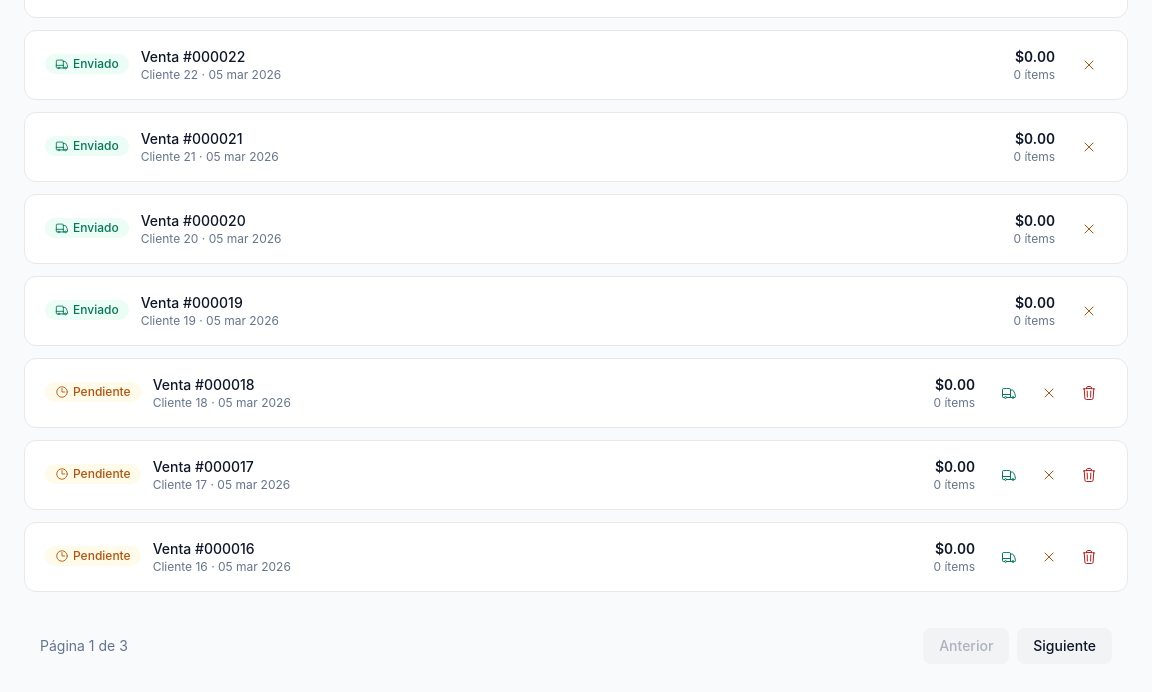
Test: SaleOrdersPage — paginación y filtros (T6-01) › número de venta (T6-04) › buscar 12 encuentra la #000012 y vuelve a la página 1; se pide solo con las cifras
(page scrolled)
Click the button "Siguiente".
click(1065, 646)  # box [1017,628,1112,664]
(page scrolled)
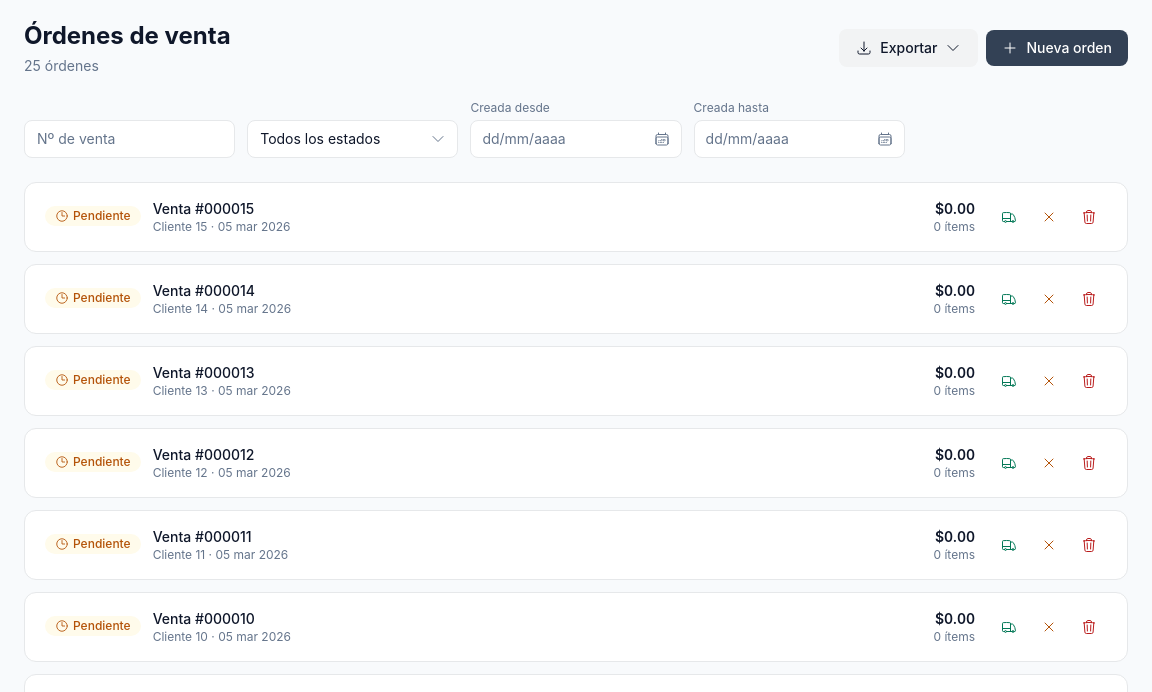
# Pegado como se lee en pantalla, con la almohadilla y los ceros.
Type "#000012" into the field labelled "Nº de venta".
click(130, 139); type("#000012")  # box [24,120,235,158]
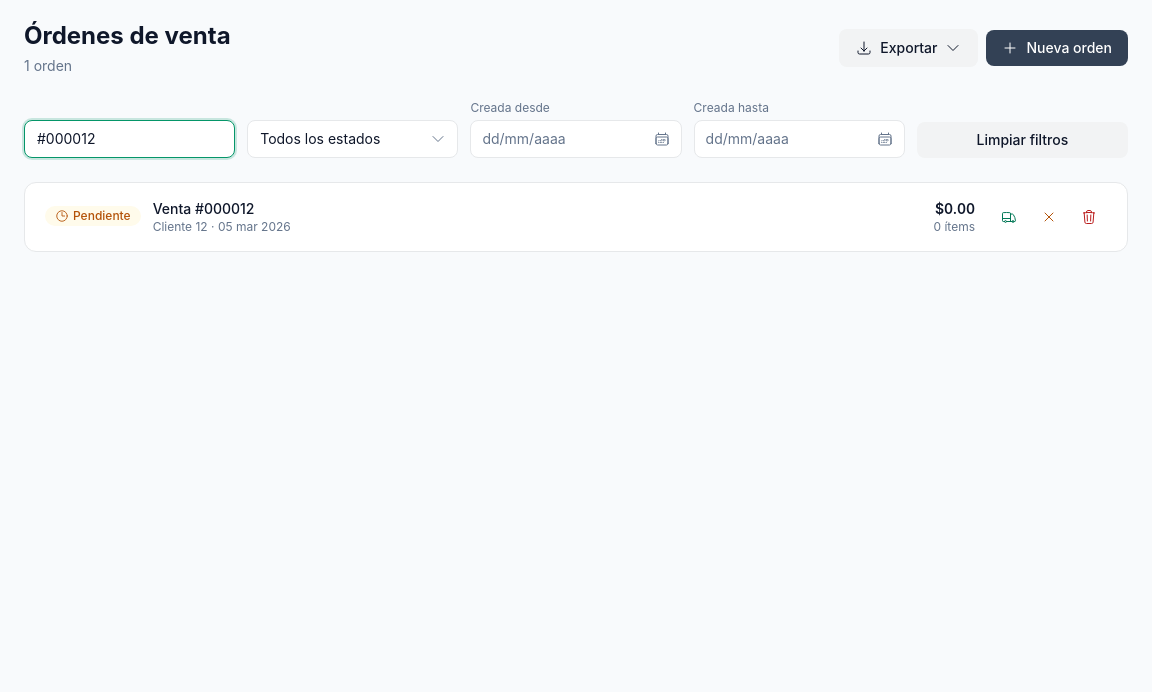
expect the text "Venta #000012" is shown: met, box [153,200,254,217]
expect the text "1 orden" is shown: met, box [24,57,72,74]
